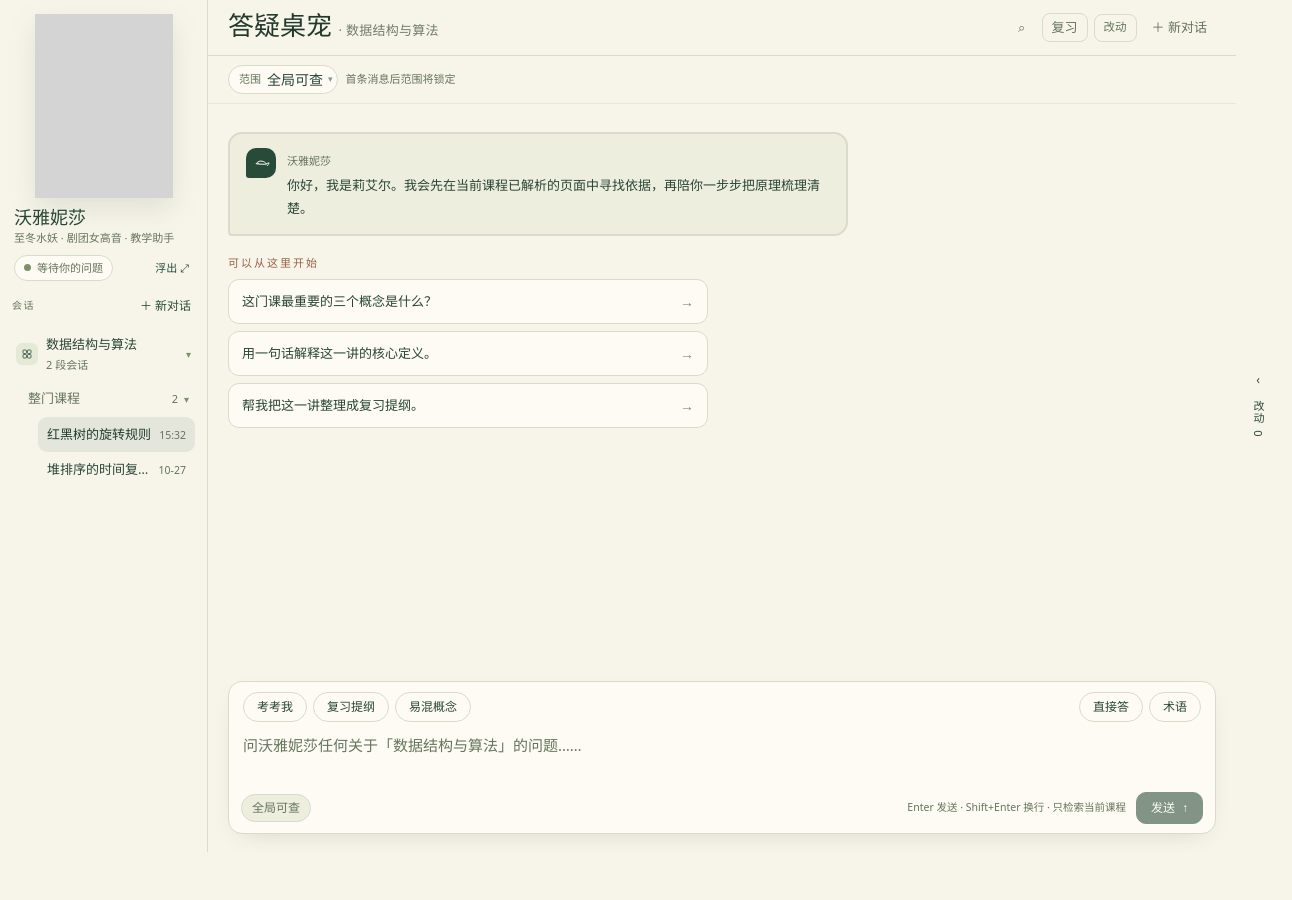
Scenario: 欢迎态 starter 点击后填入输入框
Click the button "这门课最重要的三个概念是什么？ →". click: [340, 301]
box: [228, 279, 708, 324]
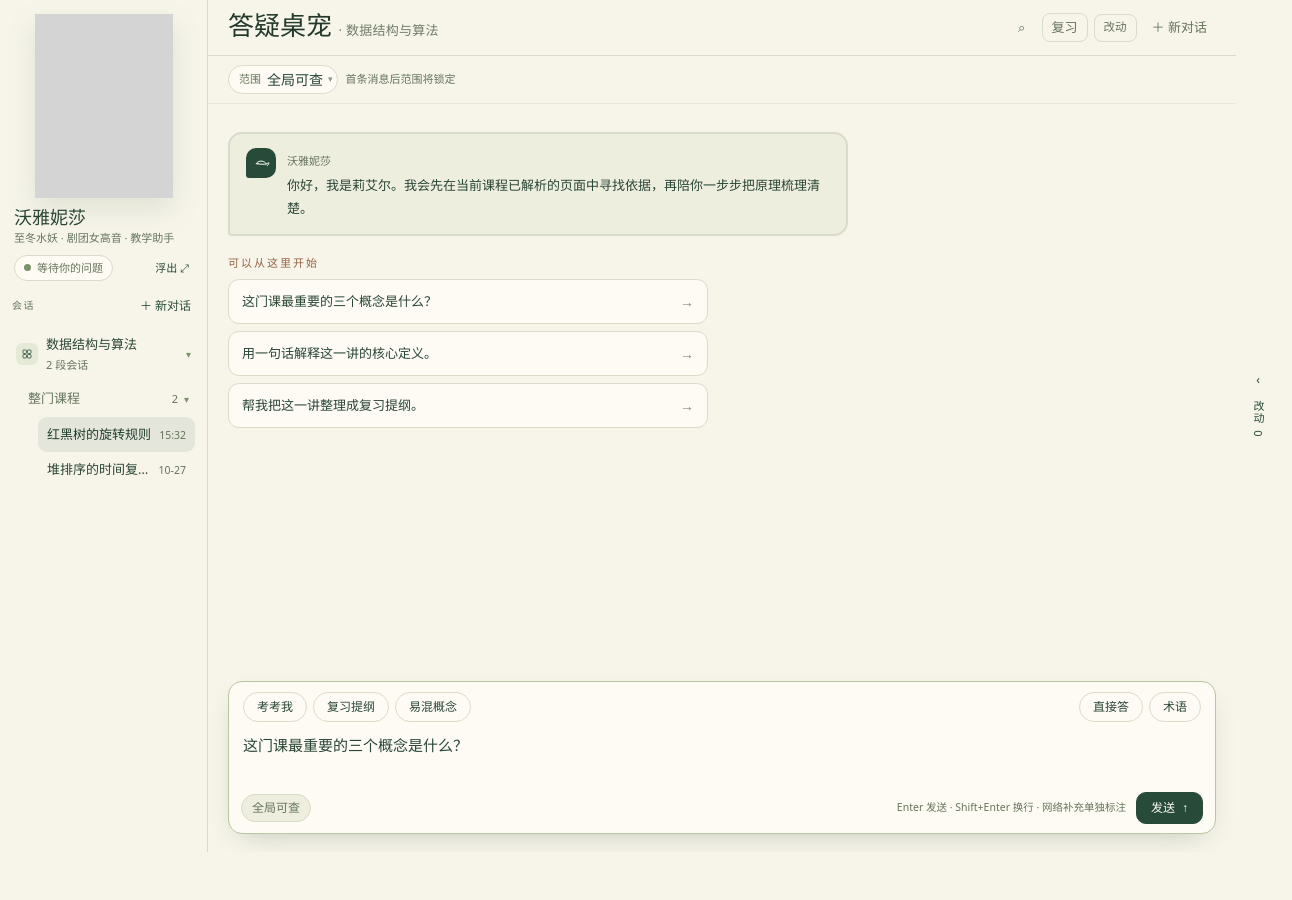
Now the text box named "课程问题" holds "这门课最重要的三个概念是什么？", box [241, 730, 1203, 786]
